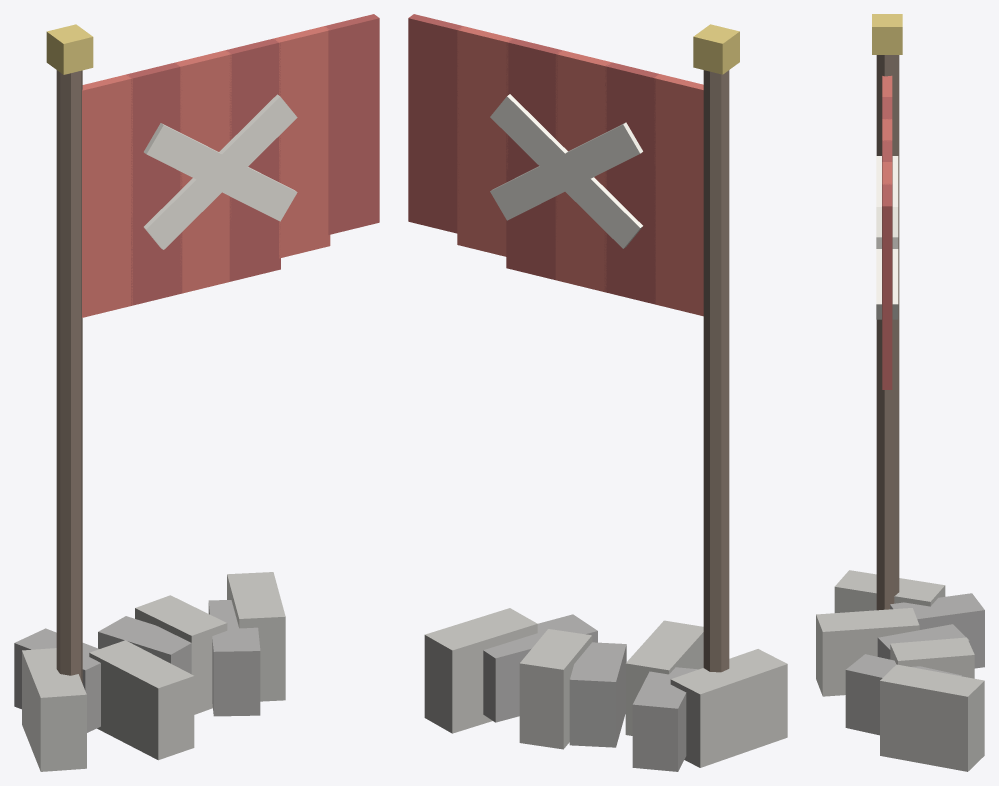
Rendered from ws_fx_alert_2.glb.
3 views of the same model, side by side, from view 1: azimuth 30°, elevation 25°; view 2: azimuth 150°, elevation 25°; view 3: azimuth 270°, elevation 25° (orthographic). The views are drawn at different scales.
Parts seen in each view (by area): view 1: ws_fx_alert_2; view 2: ws_fx_alert_2; view 3: ws_fx_alert_2.
Boxes of the visible parts, bbox=[...] form: ws_fx_alert_2: bbox=[14, 14, 379, 771]; ws_fx_alert_2: bbox=[408, 14, 787, 771]; ws_fx_alert_2: bbox=[816, 14, 984, 771].
Size of the model in its own units: 1.09 by 2.08 by 0.4946.
